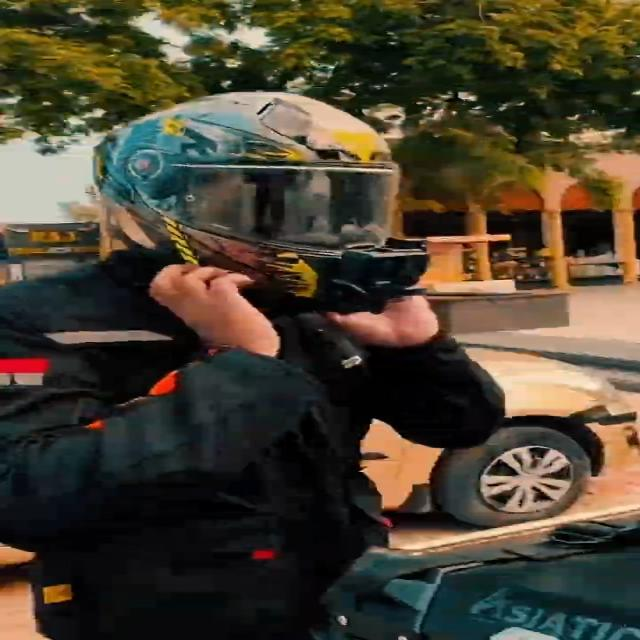Helmet_Wearer: (100, 88, 438, 304)
Jacket_Wearer: (0, 254, 511, 640)
Person: (3, 96, 511, 640)
